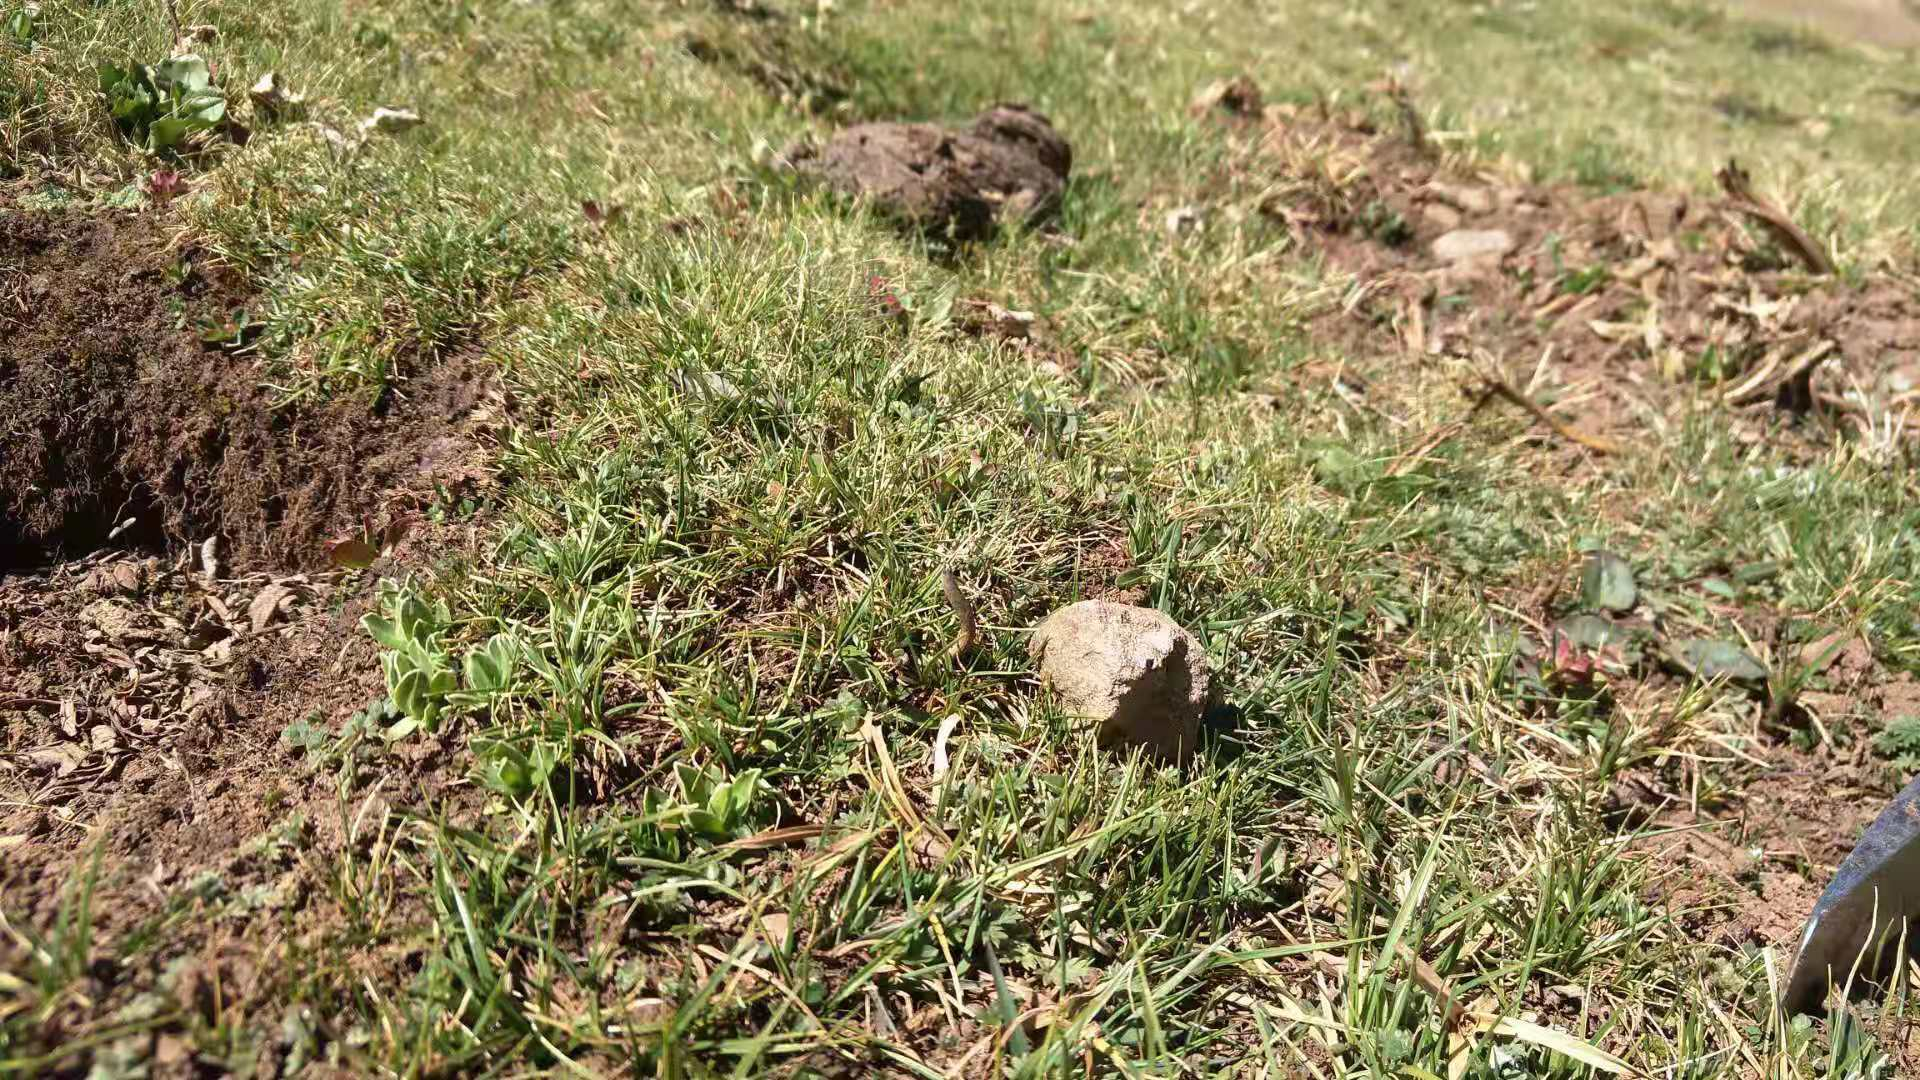cpf: (938, 564, 980, 665)
